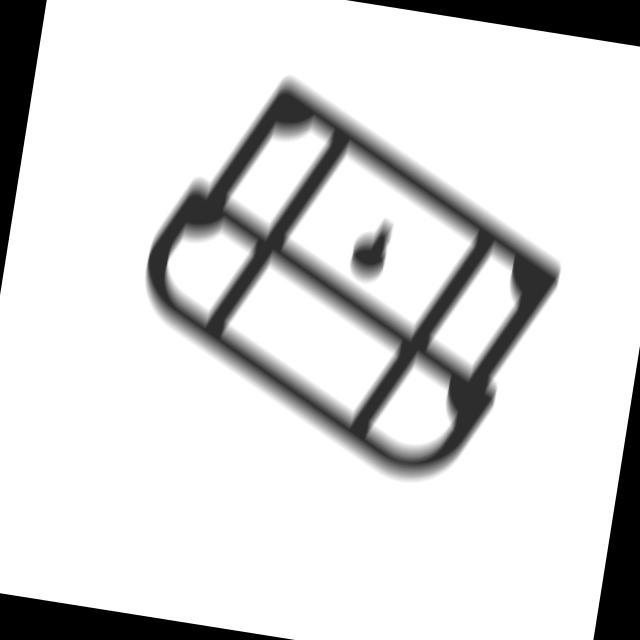treasure_box: (109, 54, 595, 512)
